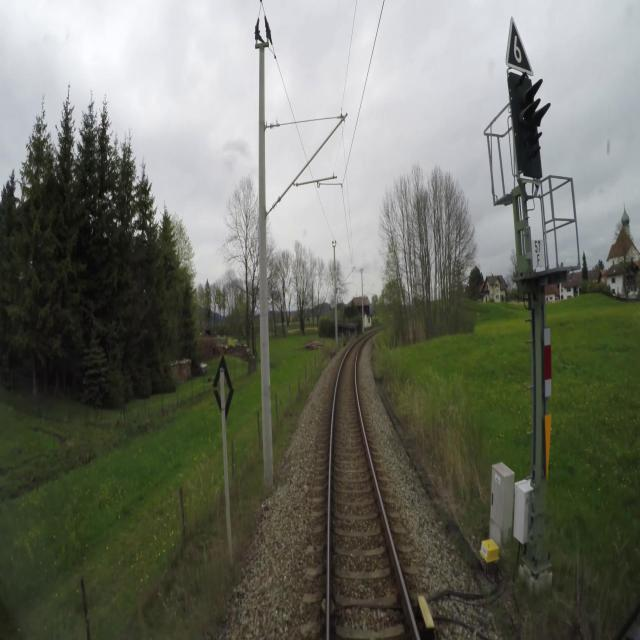rail-track: (331, 341, 416, 639)
